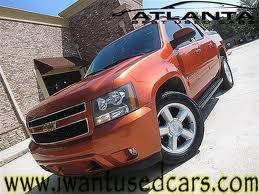Car: (21, 17, 244, 178)
